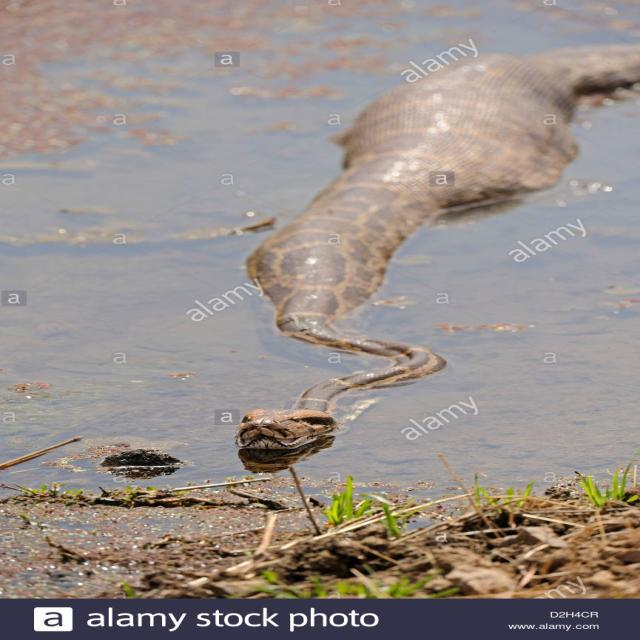Snake: (233, 43, 638, 450)
